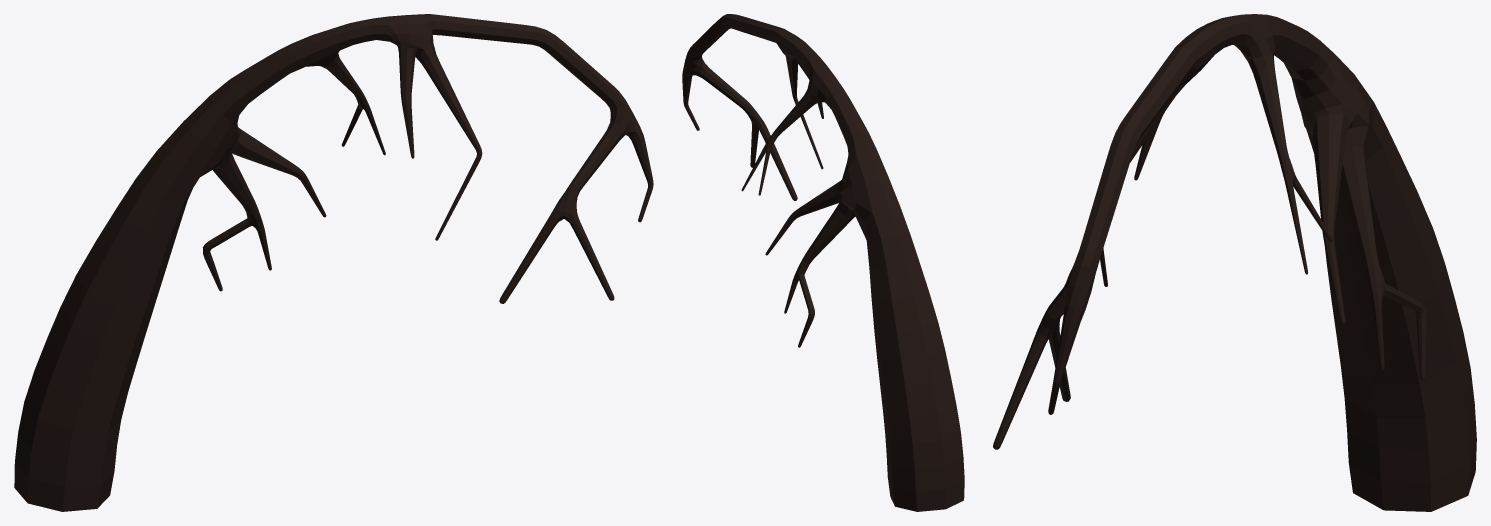
The model's file is Tree.fbx.
The picture shows the model from 3 angles, left to right: view 1: azimuth 30°, elevation 25°; view 2: azimuth 150°, elevation 25°; view 3: azimuth 270°, elevation 25°; orthographic projection. The views are drawn at different scales.
Visible parts, largest first — view 1: Cube.001; view 2: Cube.001; view 3: Cube.001.
Part boxes in pixels (x1,y1,x2,y2): Cube.001: [14, 14, 653, 511]; Cube.001: [682, 14, 964, 511]; Cube.001: [993, 14, 1476, 511].
Bounding box in the file's own units: 176 × 163 × 116.
